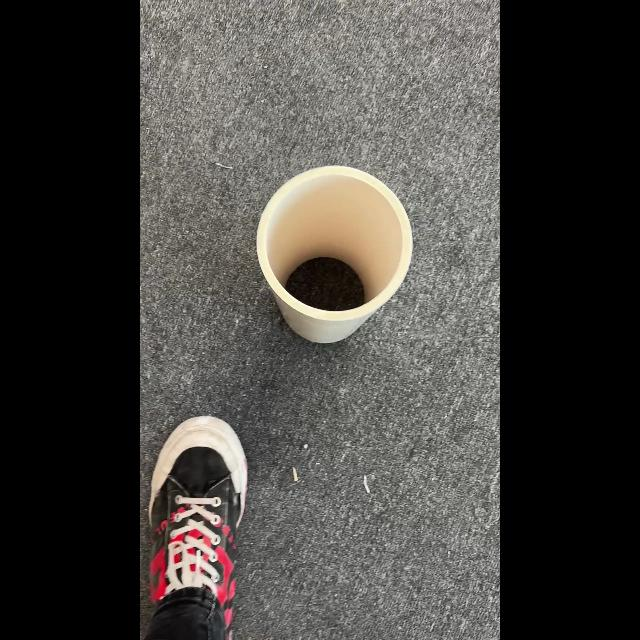CORAL: (255, 164, 413, 344)
